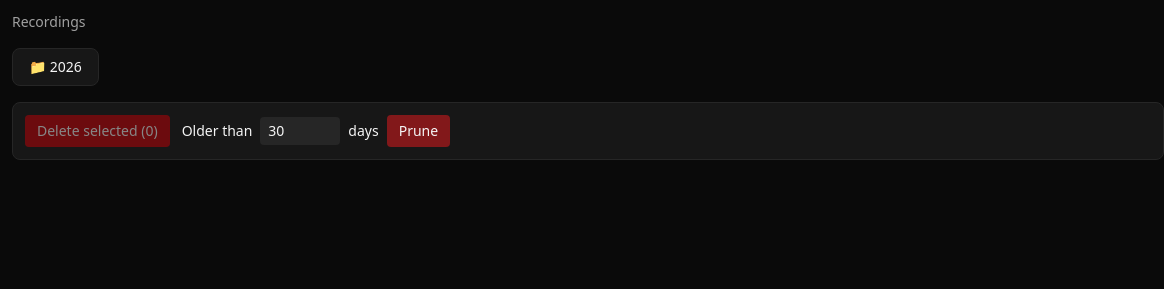
Test: breadcrumb returns to the root listing
What coordinates should you click on to do the following:
click the button named "open folder 2026"
I would click on:
 (55, 67)
Its box is top-left (12, 48), bottom-right (99, 86).
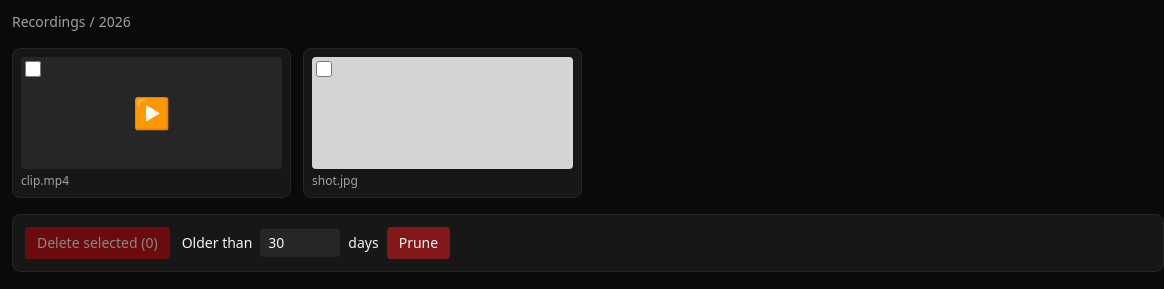
Now the text "clip.mp4" is shown, box top-left (21, 172), bottom-right (69, 189)
What coordinates should you click on to do the following:
click the button "Recordings"
I would click on:
 (49, 22)
Its box is top-left (12, 12), bottom-right (86, 32).
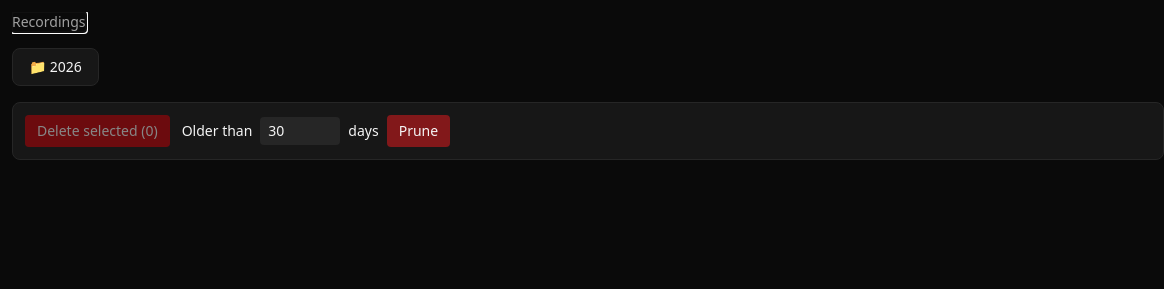
Now the button named "open folder 2026" is shown, box top-left (12, 48), bottom-right (99, 86)
